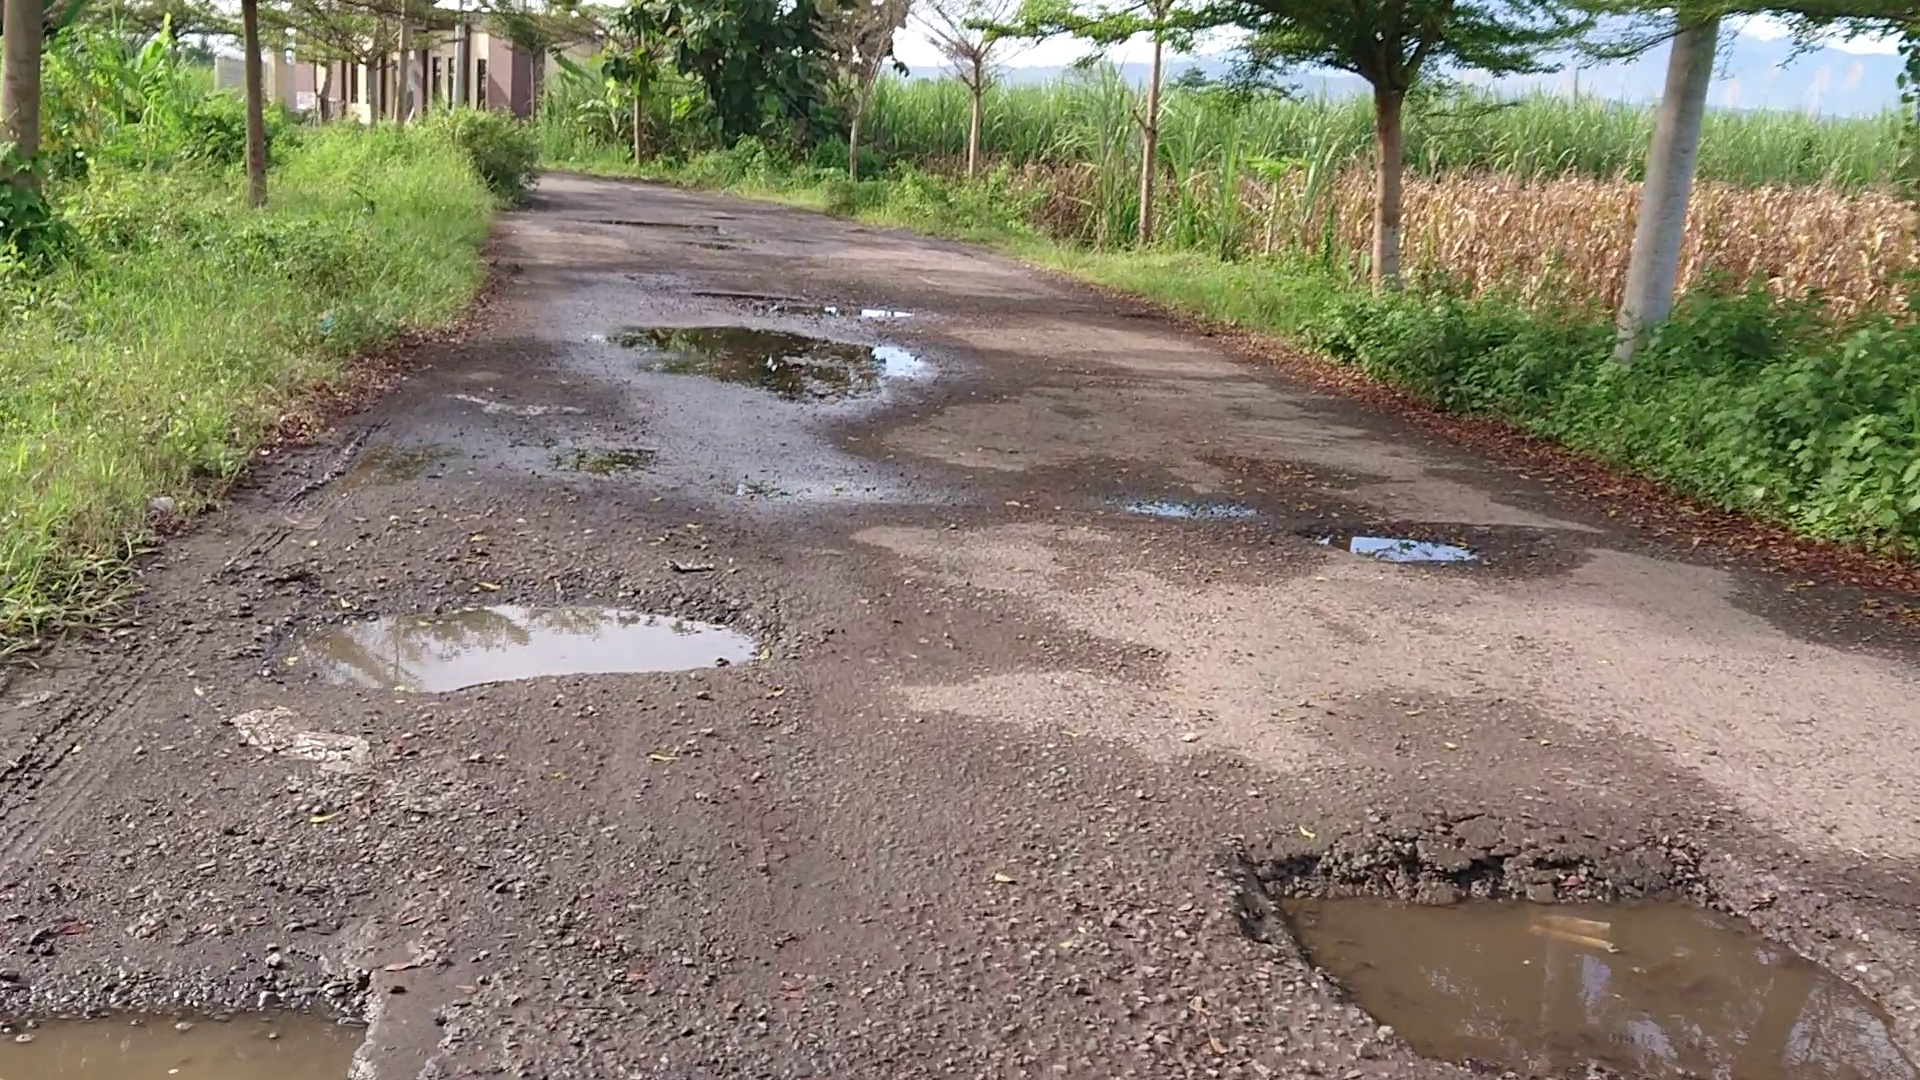Berlubang: (1287, 889, 1891, 1080), (314, 603, 756, 687), (607, 324, 903, 406), (1327, 524, 1484, 568)
